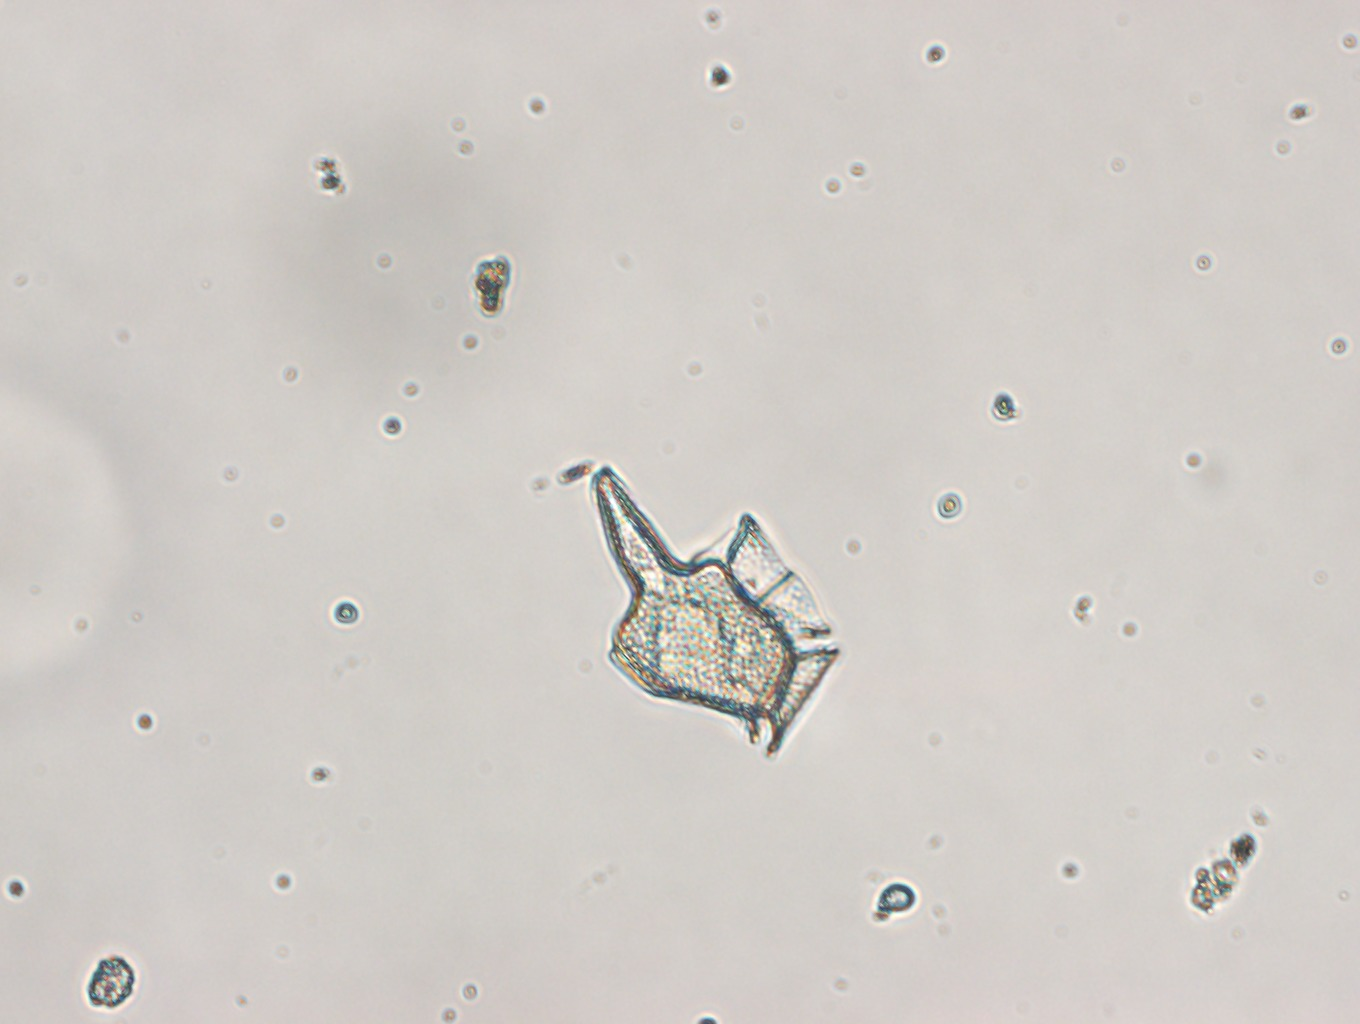dinophysis caudata: (592, 463, 838, 759)
